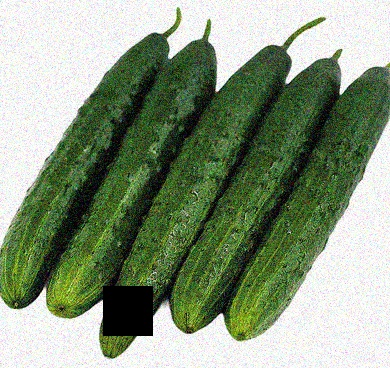cucumber: (103, 34, 290, 354), (185, 47, 343, 335), (57, 31, 214, 314), (5, 26, 161, 306), (239, 76, 386, 341)
